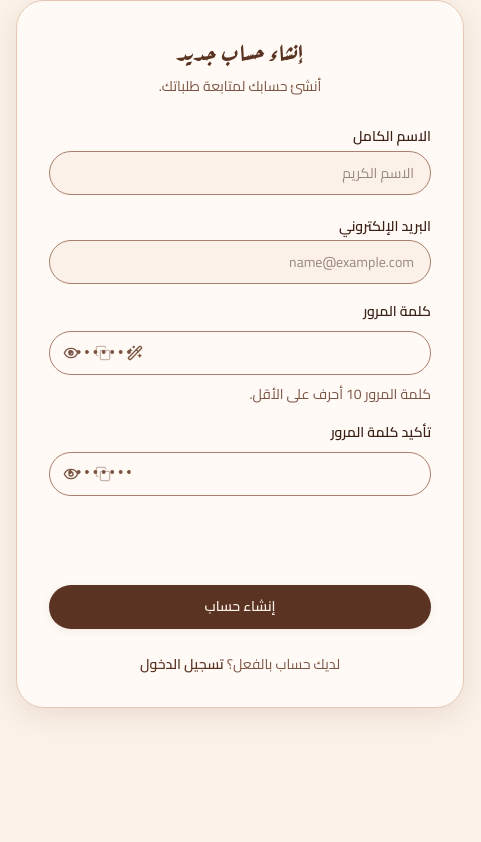
Test: RegisterPage › shows AUTH-013 when password and confirm password do not match
In the field labelled "البريد الإلكتروني": [240, 262] box [49,240,431,284], type "user@example.com"
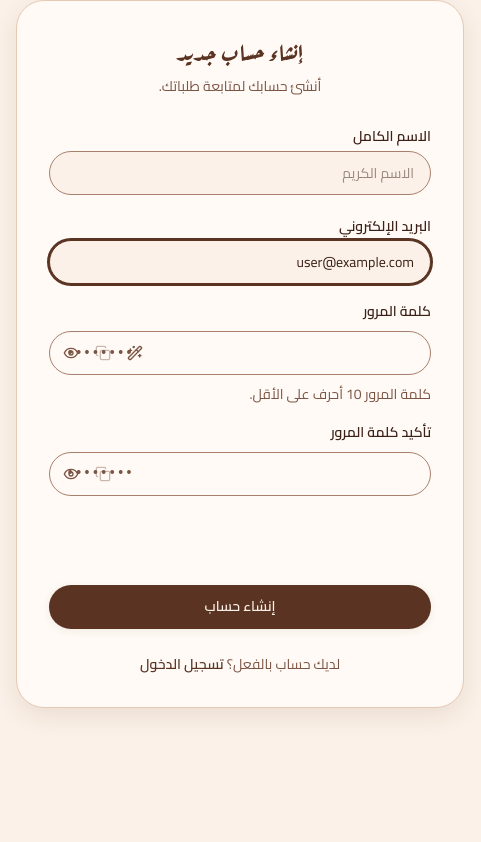
In the password field labelled "كلمة المرور": [240, 353] box [49,331,431,375], type "superSecret10Pass"
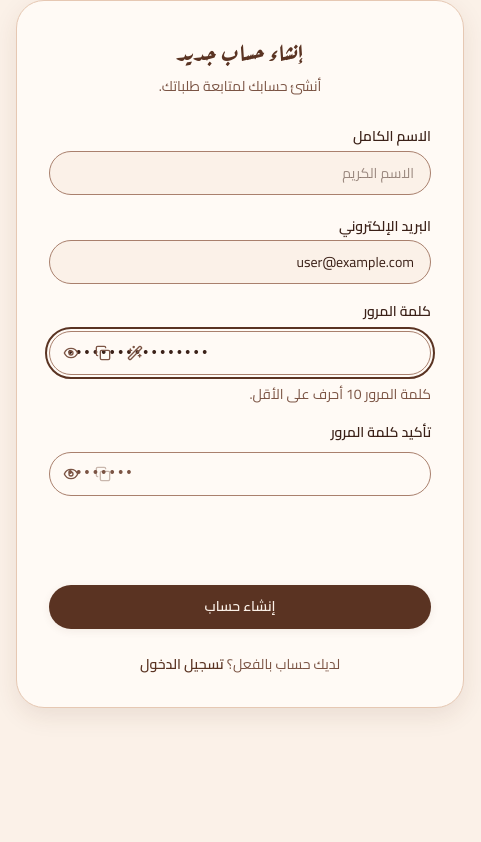
In the password field labelled "تأكيد كلمة المرور": [240, 474] box [49,452,431,496], type "differentSecretPass"
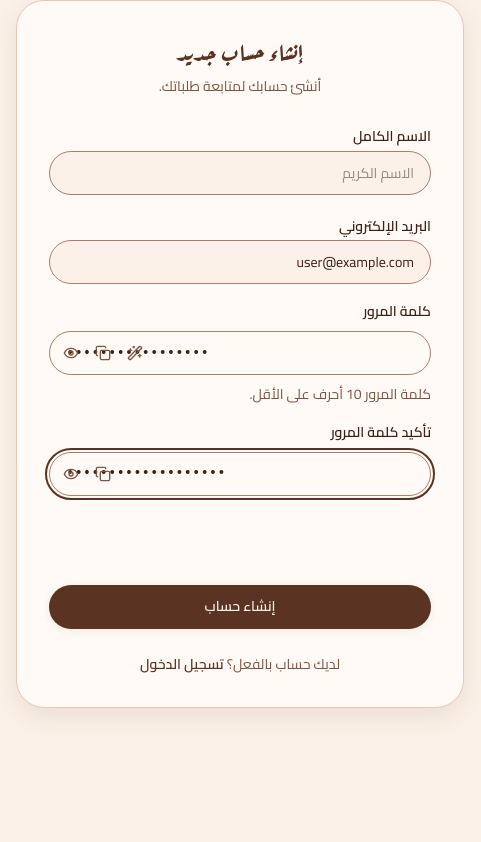
Click the button "إنشاء حساب": [240, 607] box [49,585,431,629]
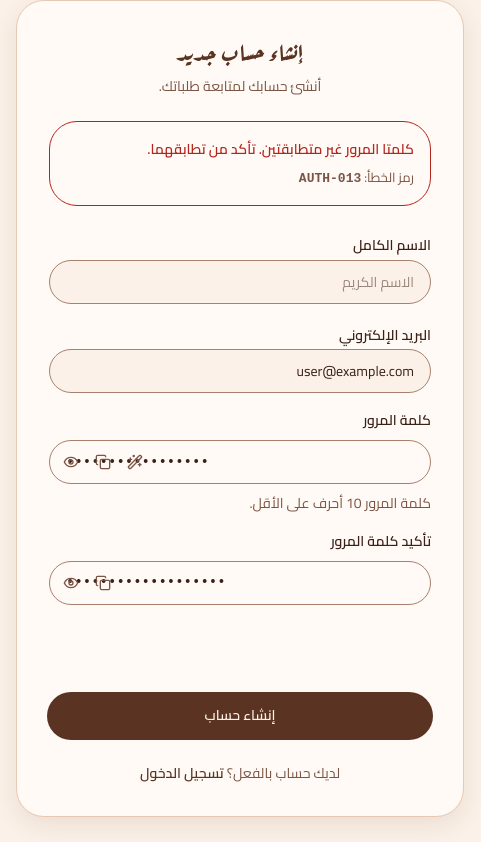
Now the message "كلمتا المرور غير متطابقتين. تأكد من تطابقهما. رمز الخطأ: AUTH-013" is shown, box [49,121,431,206]
Now the text "AUTH-013" is shown, box [299,171,361,186]
Now the text "كلمتا المرور غير متطابقتين. تأكد من تطابقهما." is shown, box [147,136,414,162]
